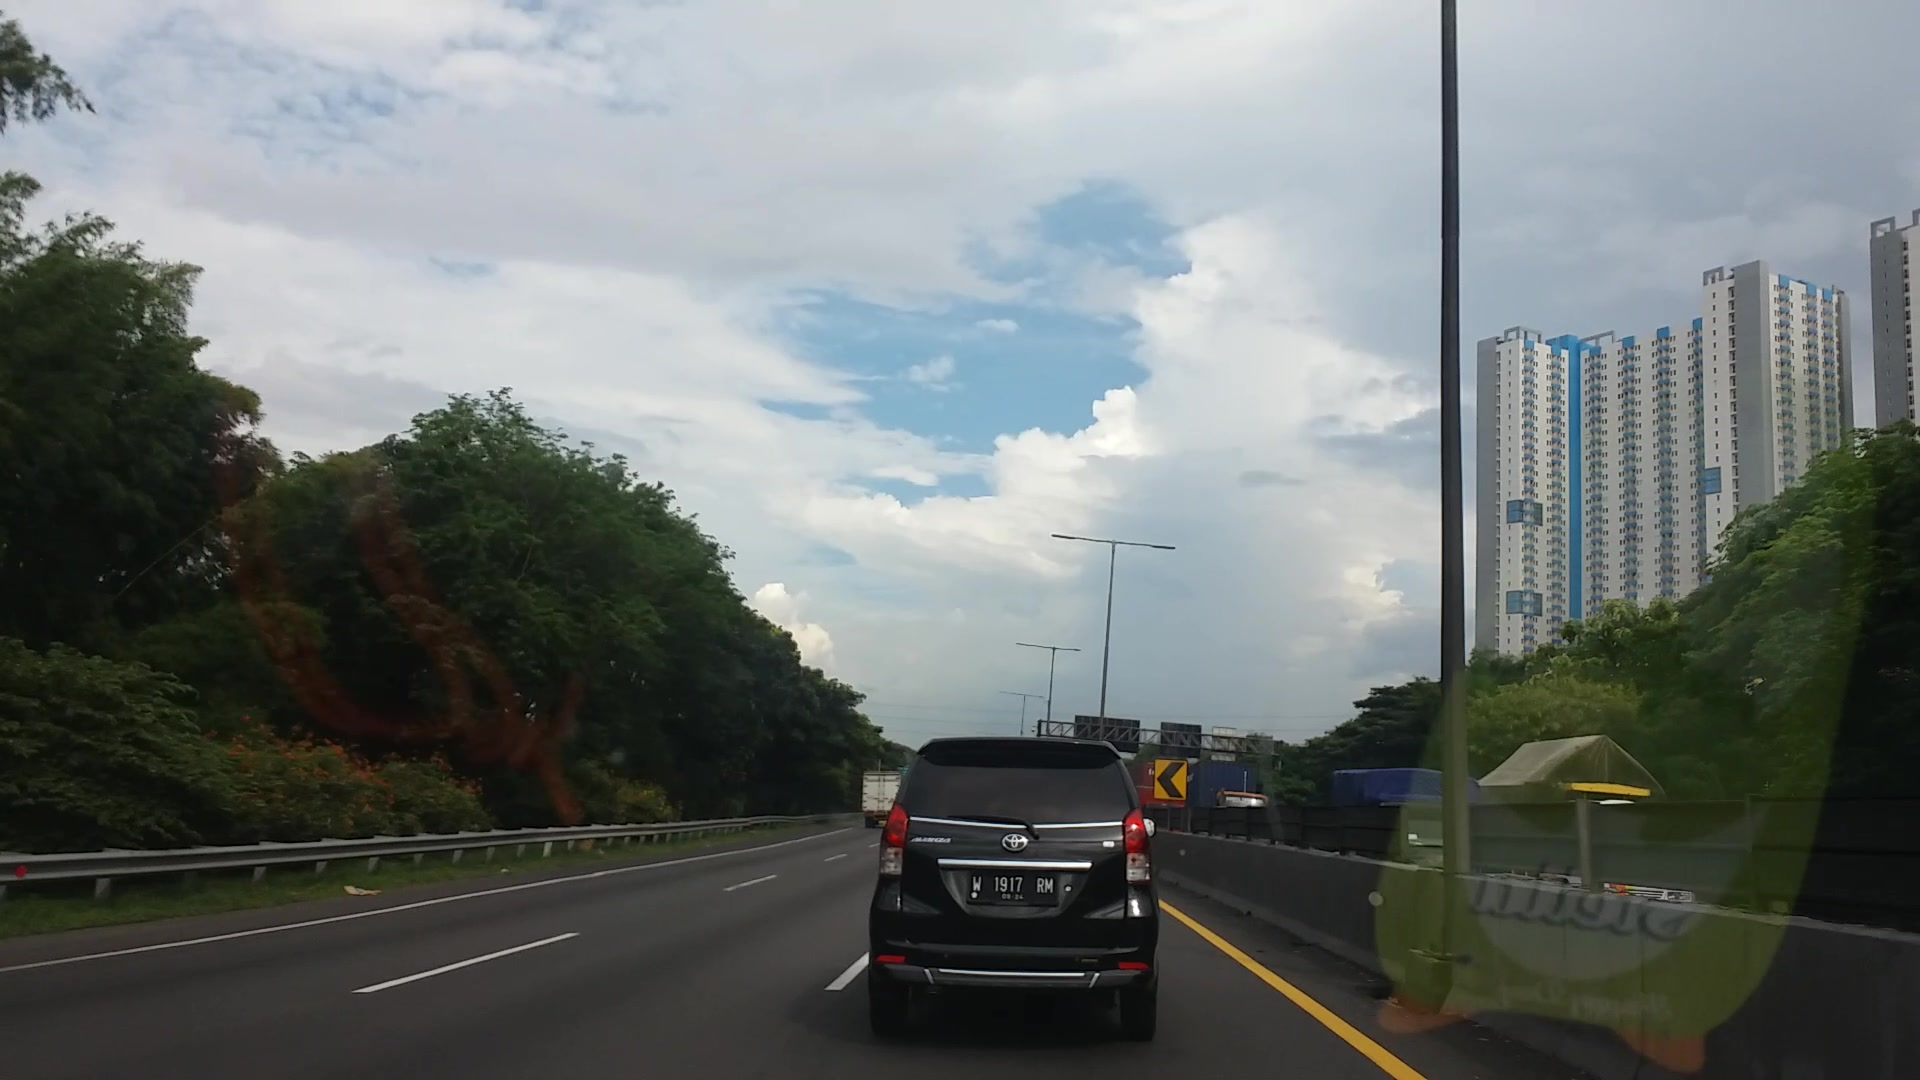plate_positive: (969, 872, 1055, 902)
